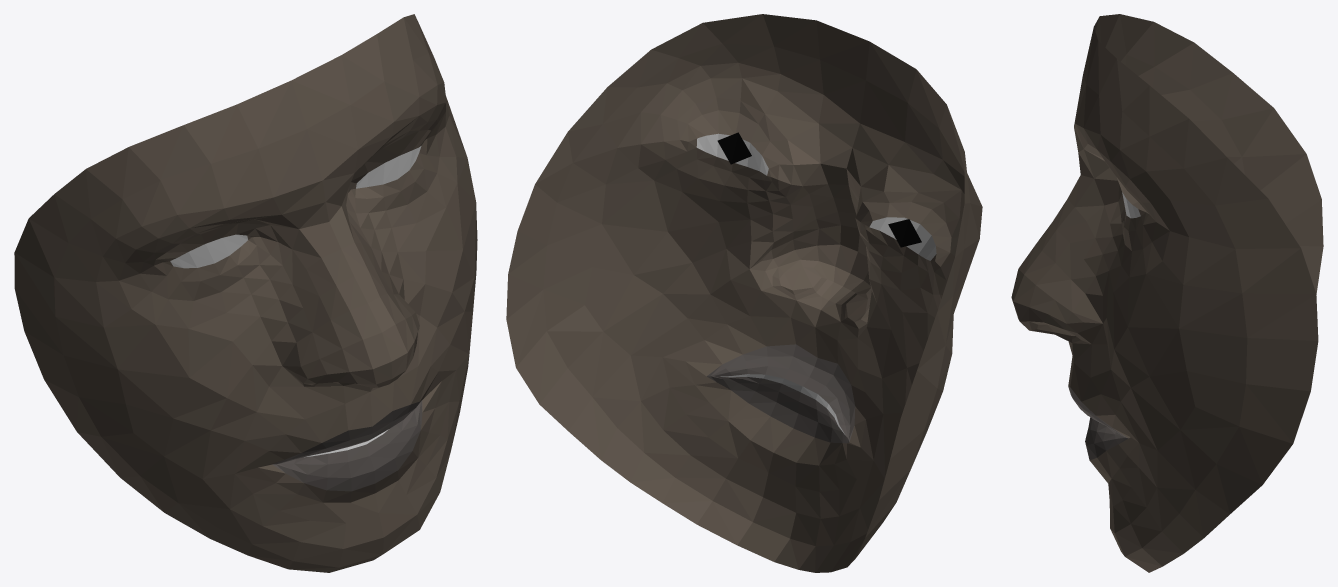
Rendered from anger.obj.
3 views of the same model, side by side, from view 1: azimuth 30°, elevation 25°; view 2: azimuth 150°, elevation 25°; view 3: azimuth 270°, elevation 25° (orthographic). The views are drawn at different scales.
Visible parts, largest first — view 1: face_model_with_iris; view 2: face_model_with_iris; view 3: face_model_with_iris.
Part boxes in pixels (x1,y1,x2,y2): face_model_with_iris: (14,14,477,572); face_model_with_iris: (506,14,982,572); face_model_with_iris: (1011,14,1323,572).
Bounding box in the file's own units: 0.6234 × 0.7648 × 0.4255.
